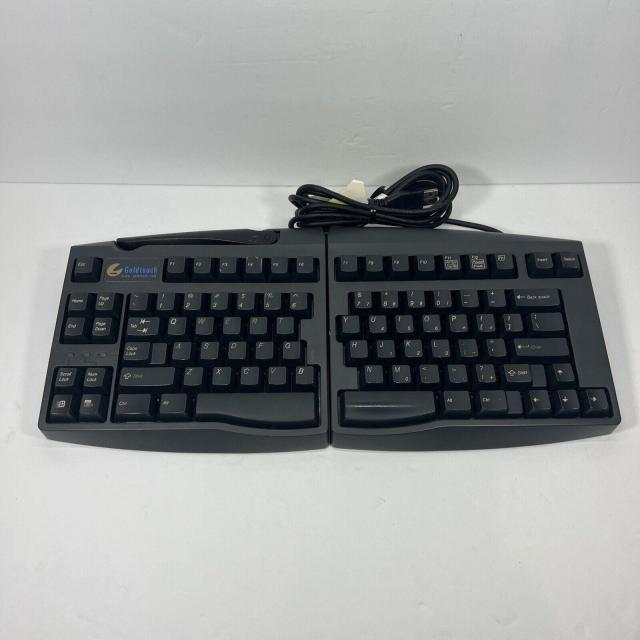keyboard: (32, 246, 619, 426)
